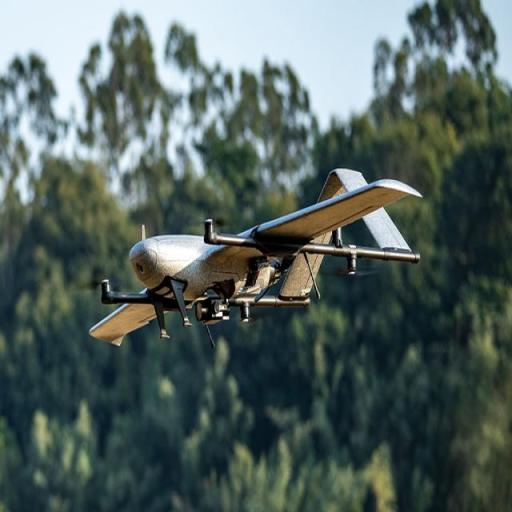uav: (84, 158, 426, 366)
